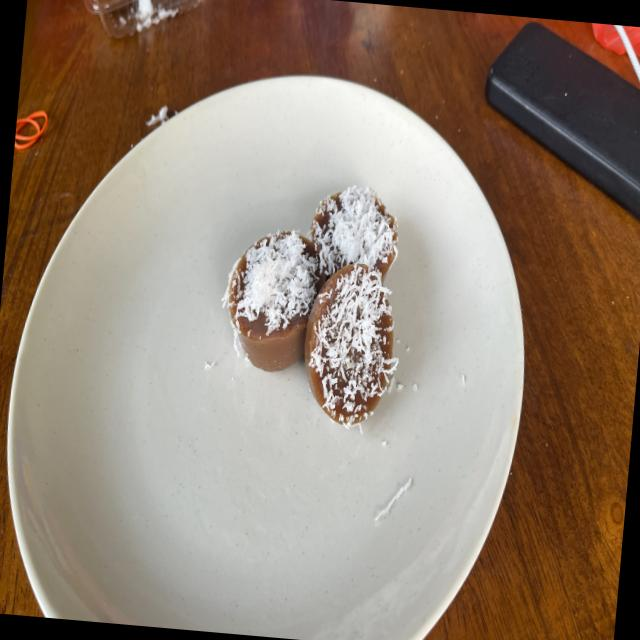Kuih lompang: (304, 263, 398, 427), (222, 231, 319, 371), (309, 185, 397, 278)
